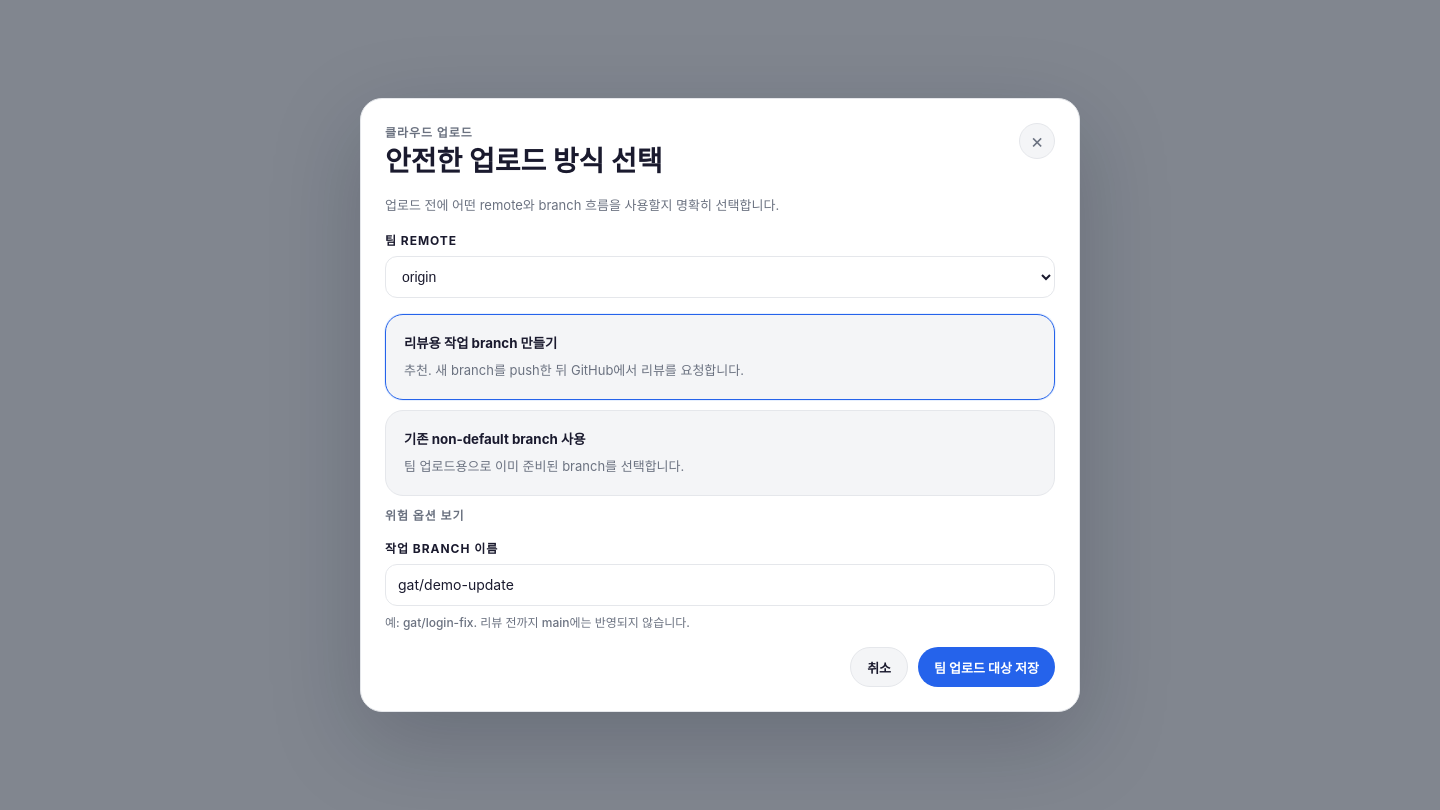
Scenario: CloudSetupWizard › blocks new team branch setup when the branch already exists locally
Step 1. Click the button "팀 업로드 대상 저장" → (987,667), box [918, 647, 1055, 687]
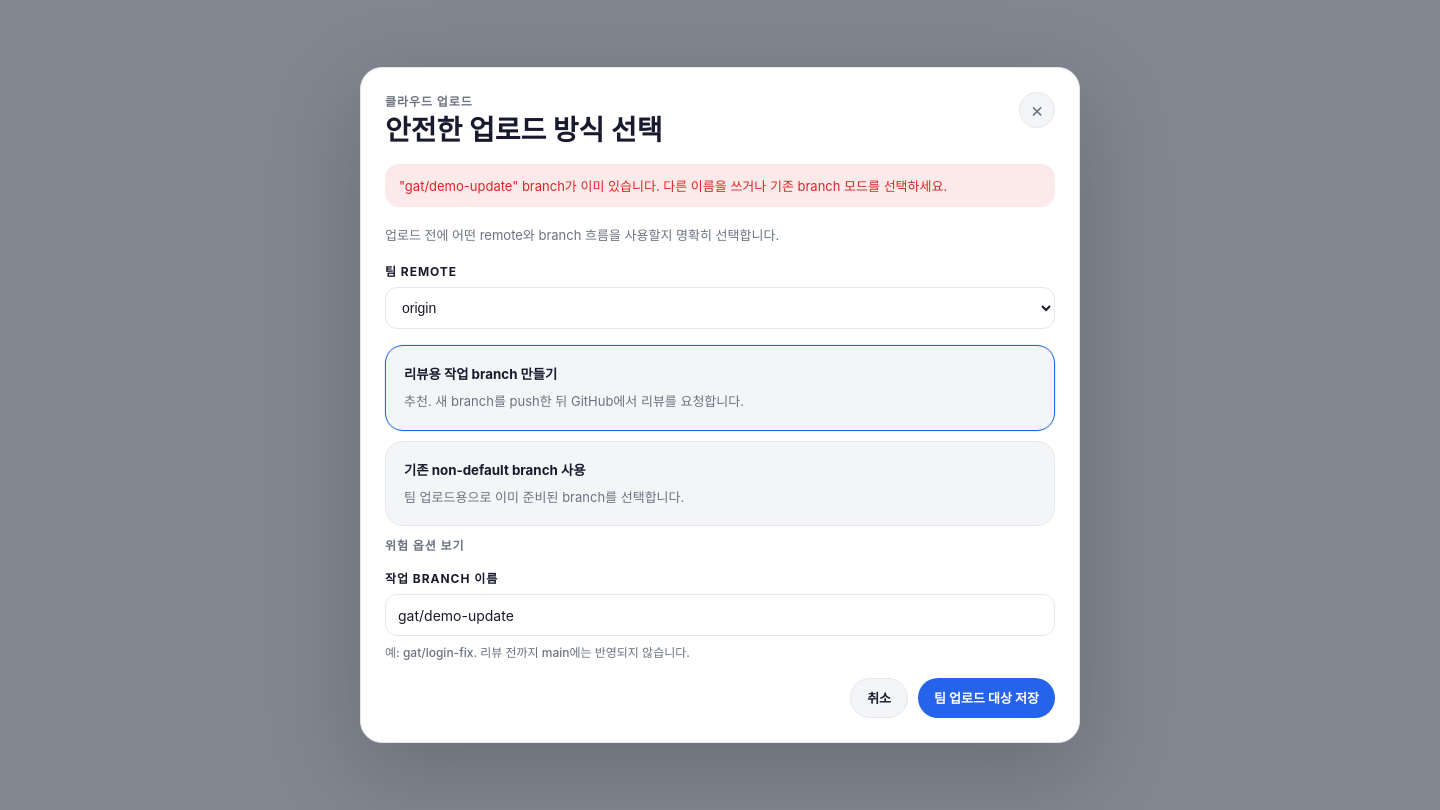
expect the text "이미 있습니다" is shown: met, box [399, 178, 947, 194]
